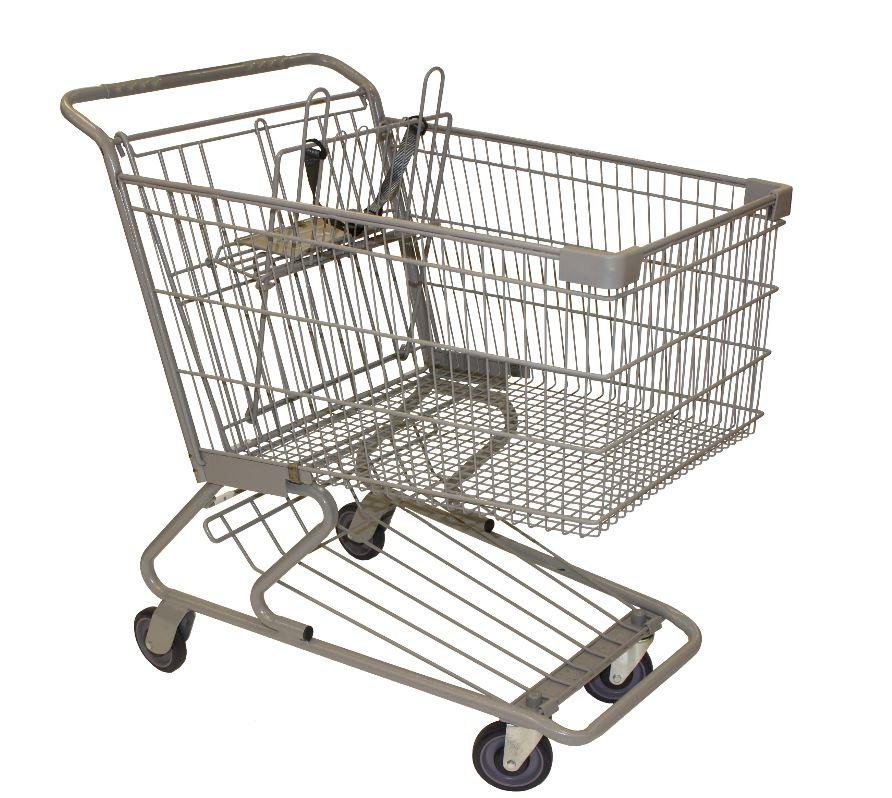with_basket: (49, 47, 795, 770)
